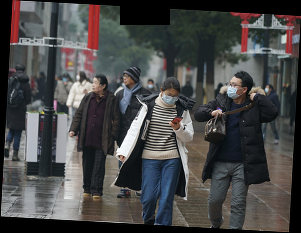with_mask: (225, 80, 242, 100), (161, 90, 179, 105), (263, 86, 271, 95)
without_mask: (91, 79, 102, 93), (121, 73, 132, 85)
